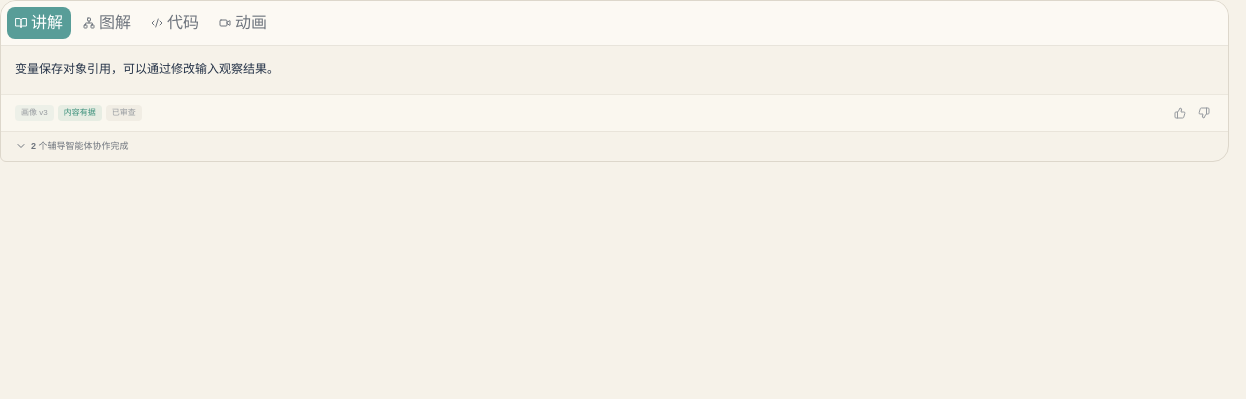
Test: TutorRichResponse › renders cycle with its own visual grammar
What coordinates should you click on to do the following:
click the button "图解"
I would click on:
 (107, 23)
Its box is [75,7,139,39].
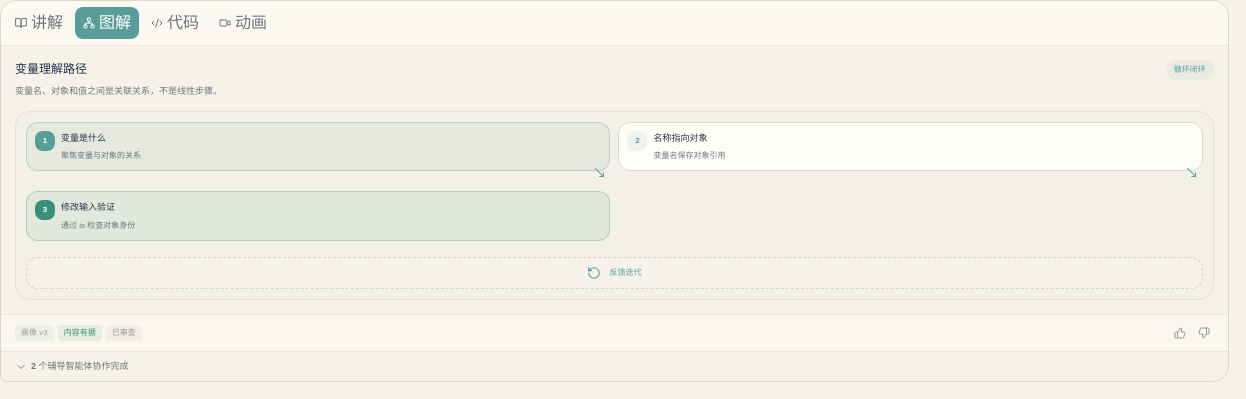
Now the element named "循环闭环图" is shown, box [15,111,1214,300]
Now the text "循环闭环" is shown, box [1166,60,1214,80]
